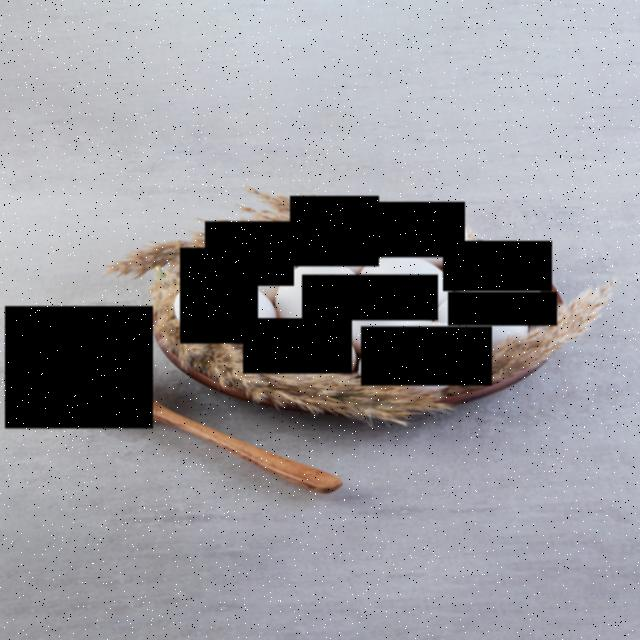Egg: (5, 307, 153, 429), (362, 327, 493, 386), (180, 248, 258, 344), (290, 196, 380, 267), (302, 275, 438, 321), (244, 318, 352, 374), (206, 221, 294, 286), (443, 241, 552, 292), (375, 203, 465, 258), (449, 292, 558, 326)
